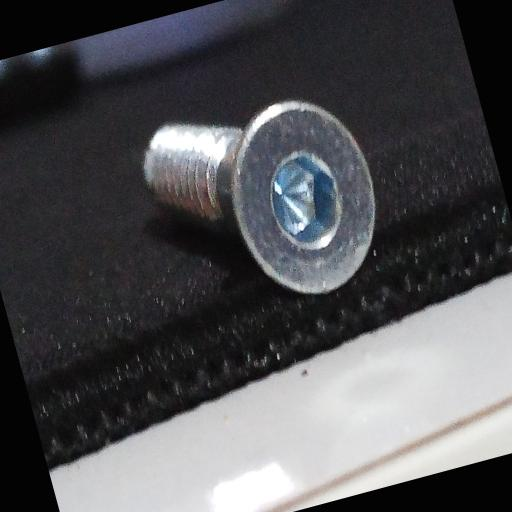Hex-Allen: (204, 78, 398, 309)
